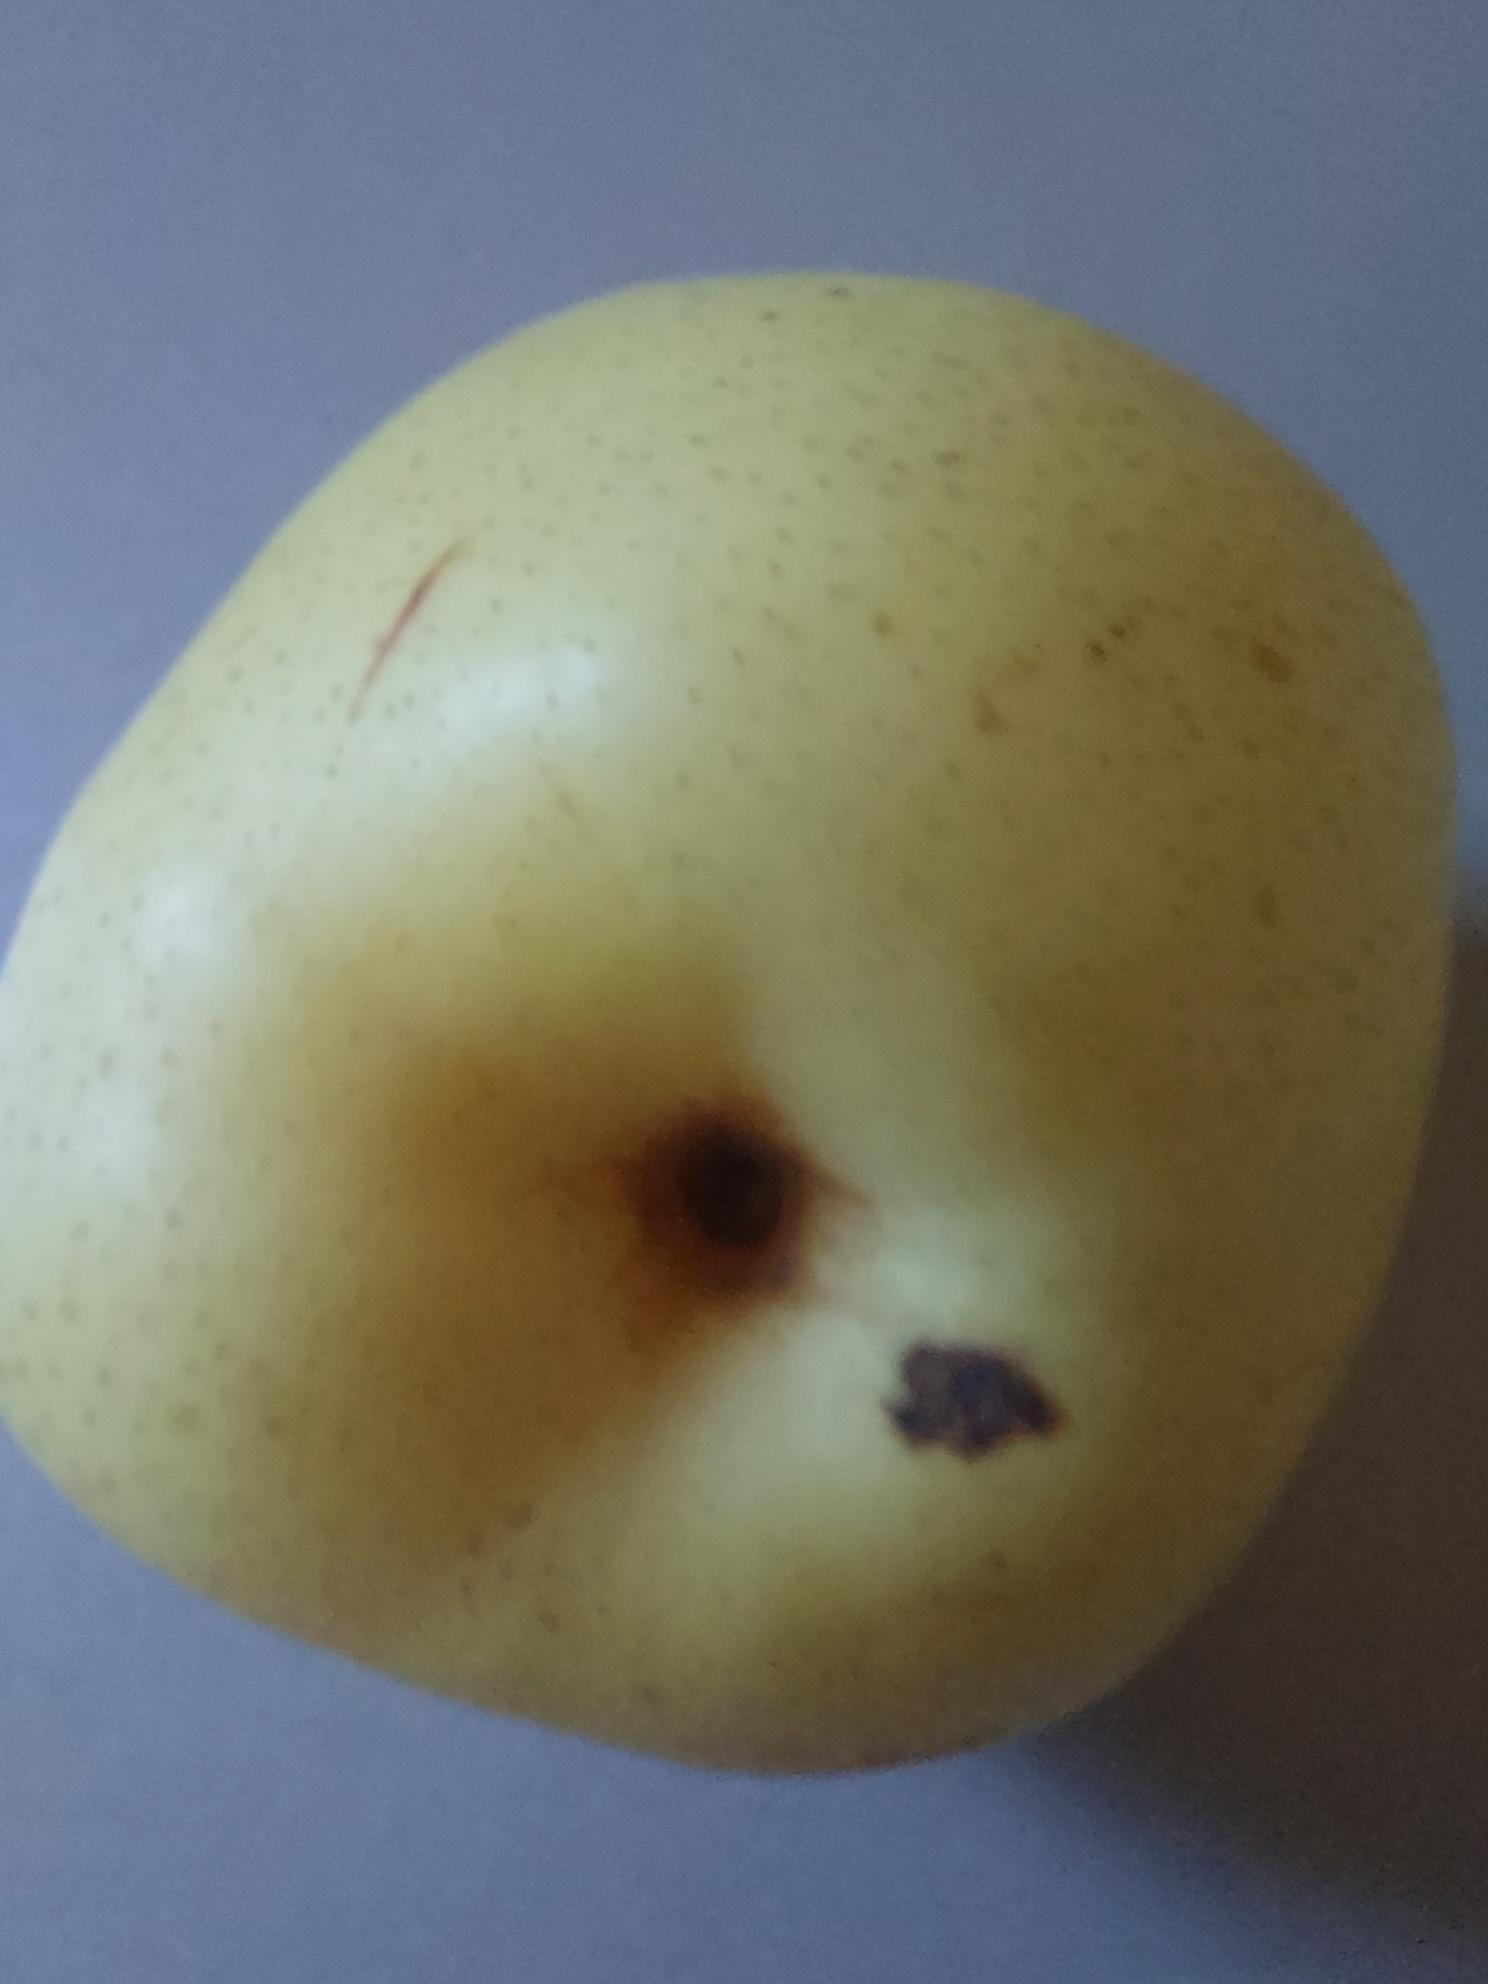Good Pear: (0, 244, 1472, 1797)
